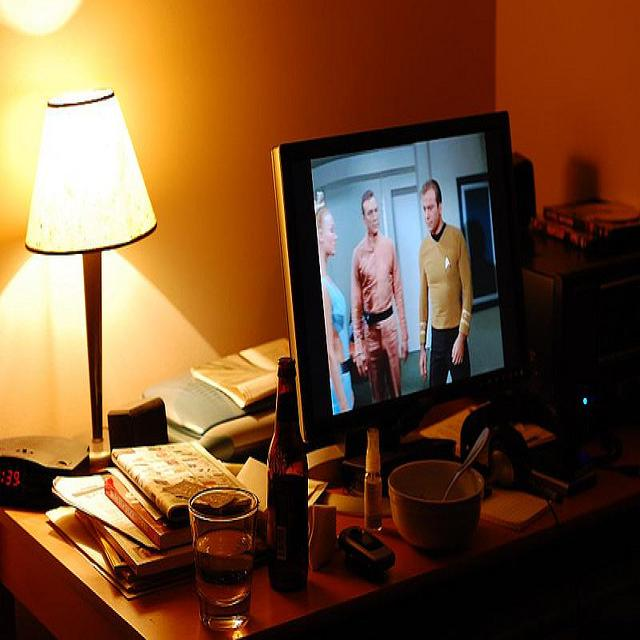Bottle: (256, 348, 314, 607), (359, 399, 392, 540)
Cup: (187, 479, 265, 640), (404, 445, 496, 541)
Table: (0, 378, 640, 640)
